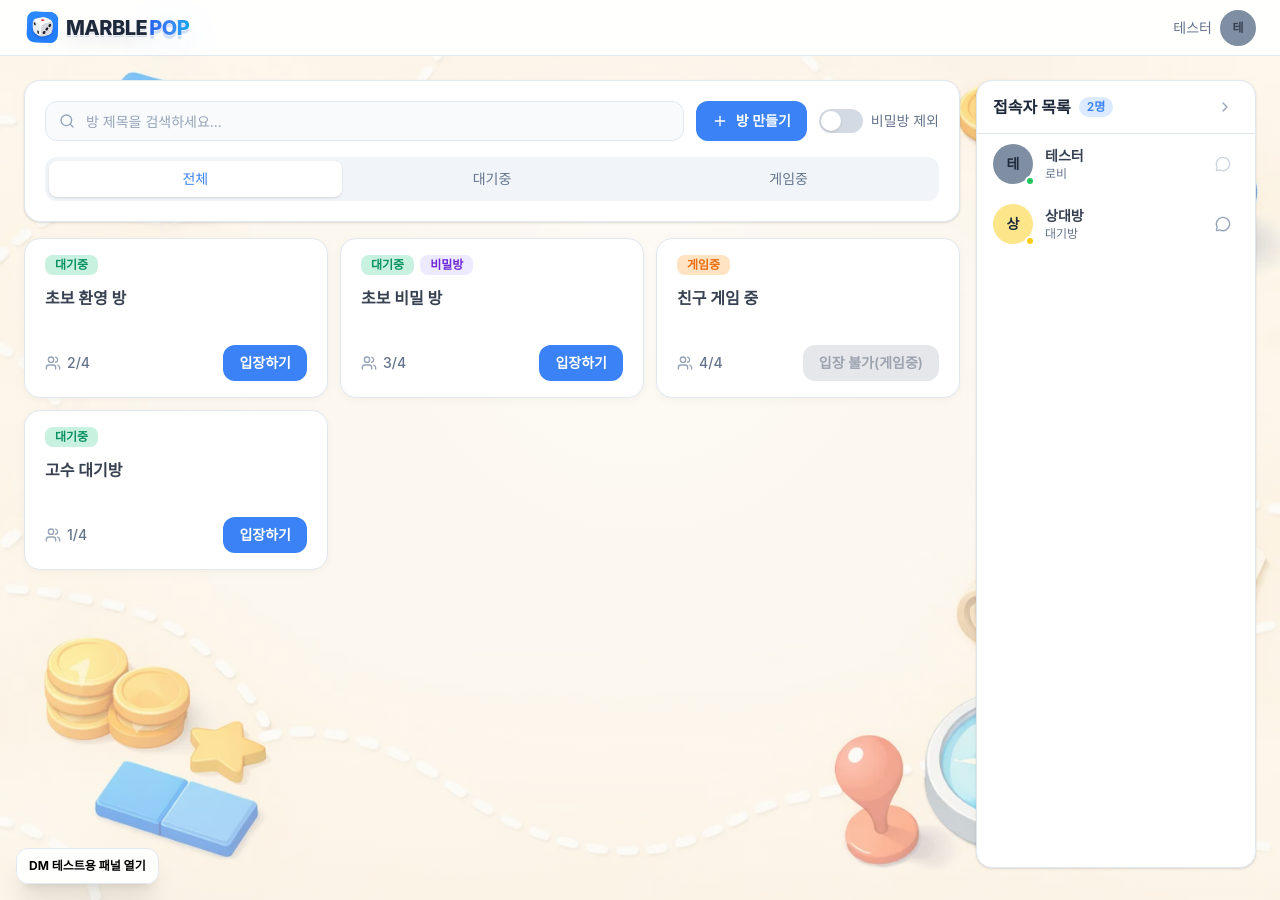
Test: LobbyPage filter and toggle regression › 접속자 목록 패널은 열기/닫기 토글이 동작한다
Click the button named "접속자 목록 닫기" at (1225, 107), box x1=1211 y1=93 x2=1239 y2=121
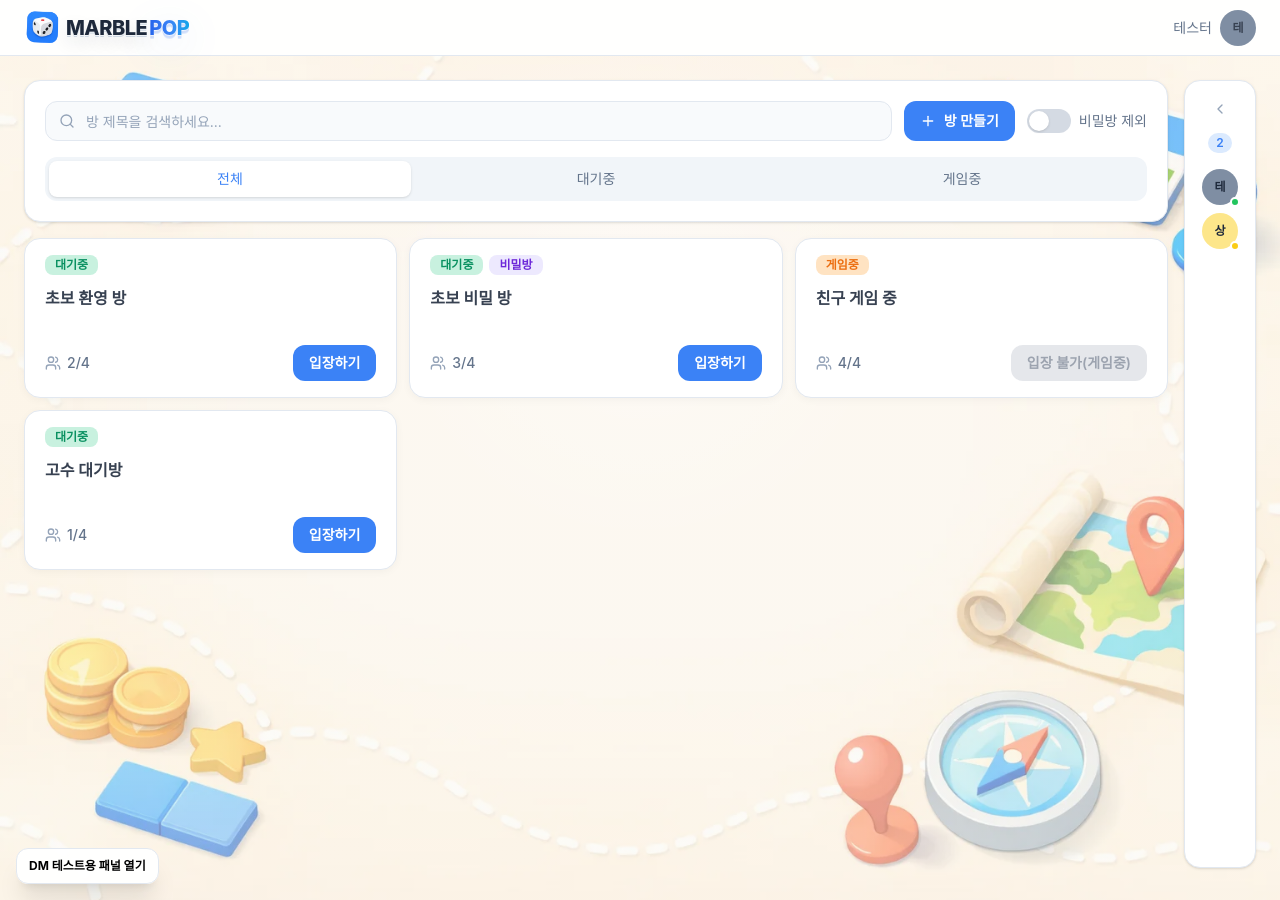
expect the button named "접속자 목록 열기" is shown: met
Click the button named "접속자 목록 열기" at (1220, 109), box x1=1204 y1=93 x2=1236 y2=125
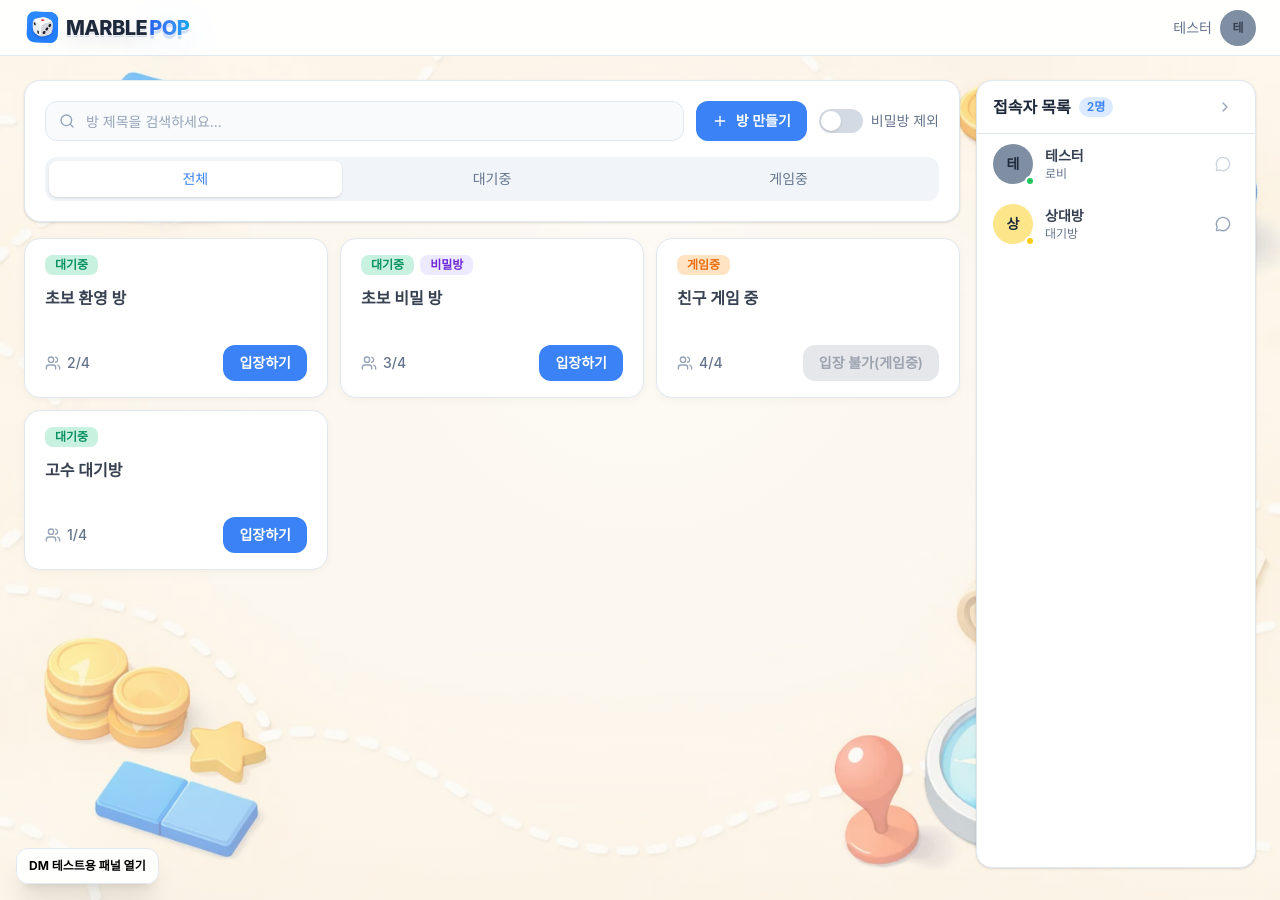
expect the button named "접속자 목록 닫기" is shown: met, box x1=1211 y1=93 x2=1239 y2=121
